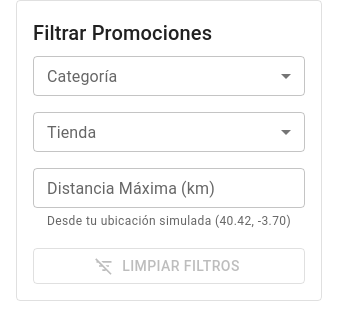
Test: FilterPanel › should clear all filters when "Limpiar Filtros" is clicked
Click the dropdown named "Categoría" next to "Categoría" at (169, 76), box [33,56,305,96]
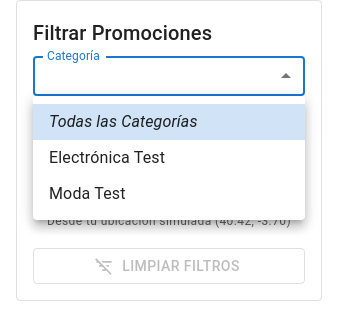
Click the option "Electrónica Test" at (107, 158), box [49,148,165,167]
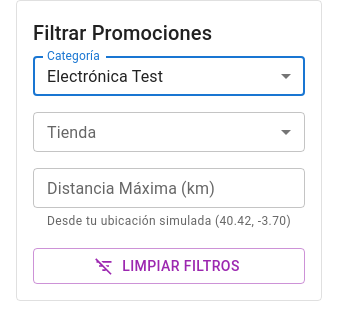
Type "10" into the number field labelled "Distancia Máxima (km)" at (169, 188), box [33,168,305,208]
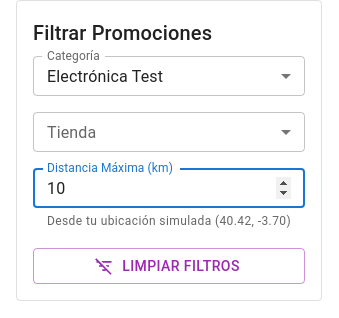
Expected: the button "Limpiar Filtros" is enabled
Click the button "Limpiar Filtros" at (169, 266), box [33,248,305,284]
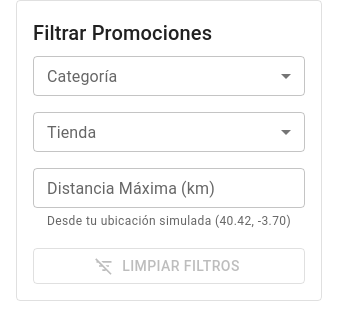
Expected: the number field labelled "Distancia Máxima (km)" is not empty, [33,168,305,208]
Expected: the button "Limpiar Filtros" is disabled, [33,248,305,284]
